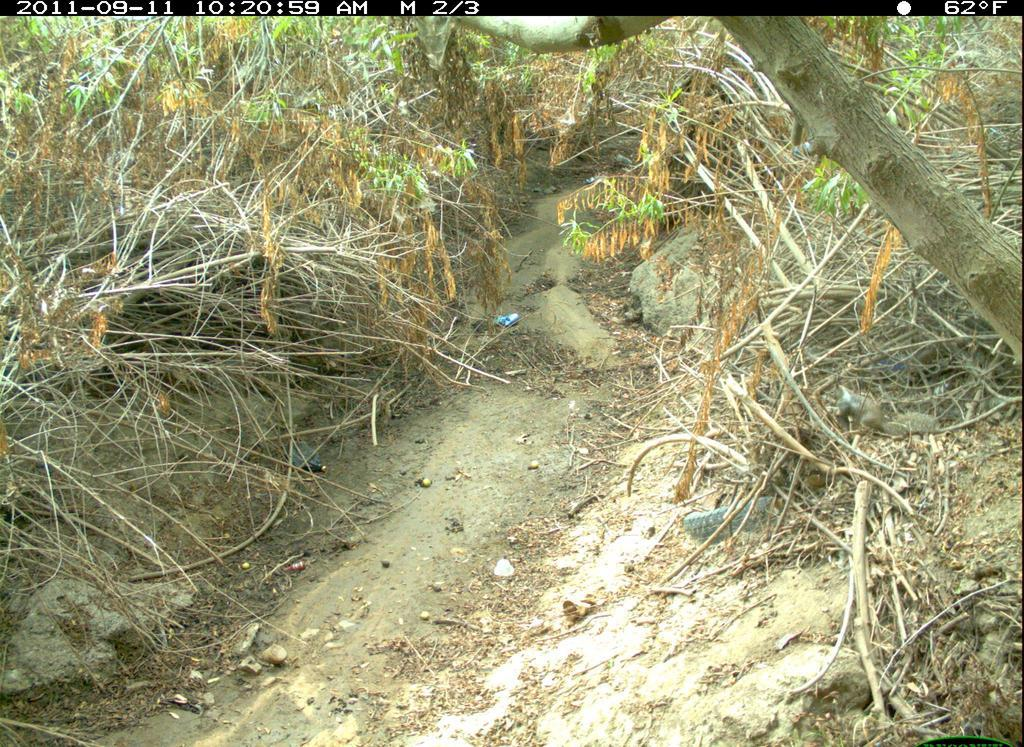squirrel: (828, 370, 929, 458)
